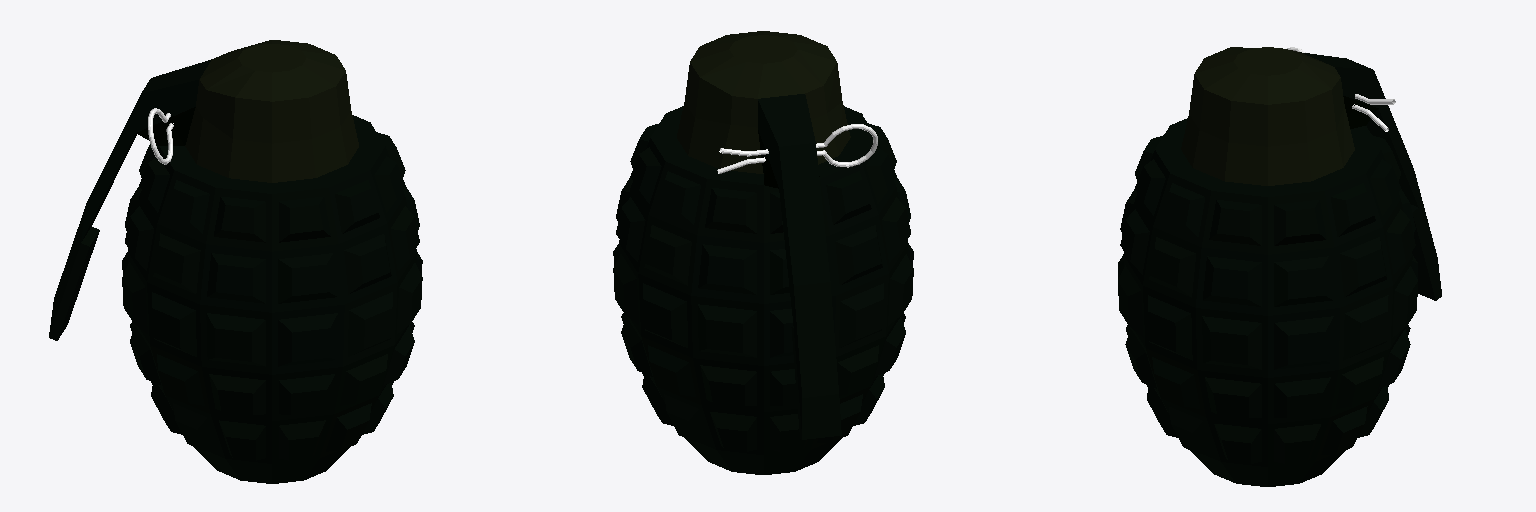
The model's file is granate.obj.
The picture shows the model from 3 angles: view 1: azimuth 30°, elevation 25°; view 2: azimuth 150°, elevation 25°; view 3: azimuth 270°, elevation 25°; orthographic projection.
Visible parts, largest first — view 1: Cylinder_Cylinder.001, Circle; view 2: Cylinder_Cylinder.001, Circle; view 3: Cylinder_Cylinder.001.
Part boxes in pixels (x1,y1,x2,y2): Cylinder_Cylinder.001: (49, 40, 422, 483); Circle: (148, 65, 189, 164); Cylinder_Cylinder.001: (613, 31, 913, 474); Circle: (717, 124, 877, 173); Cylinder_Cylinder.001: (1118, 47, 1441, 486).
Size of the model in its own units: 2.87 by 3.9 by 2.87.